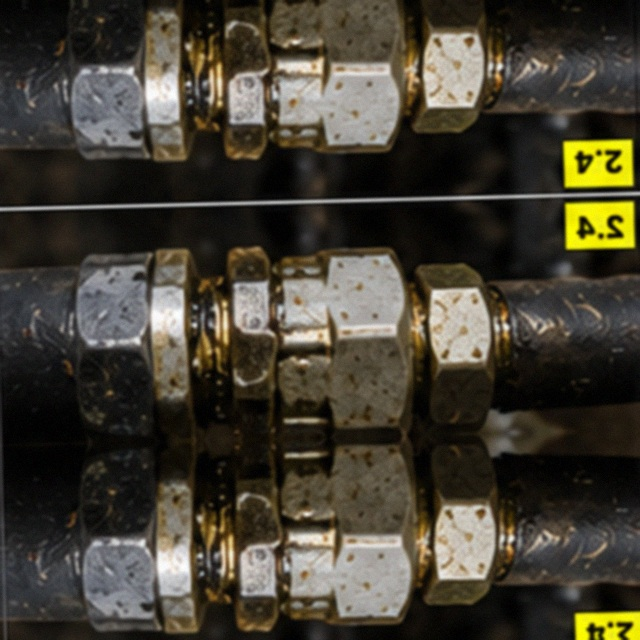hydraulic_oil_leak: (196, 210, 444, 506)
